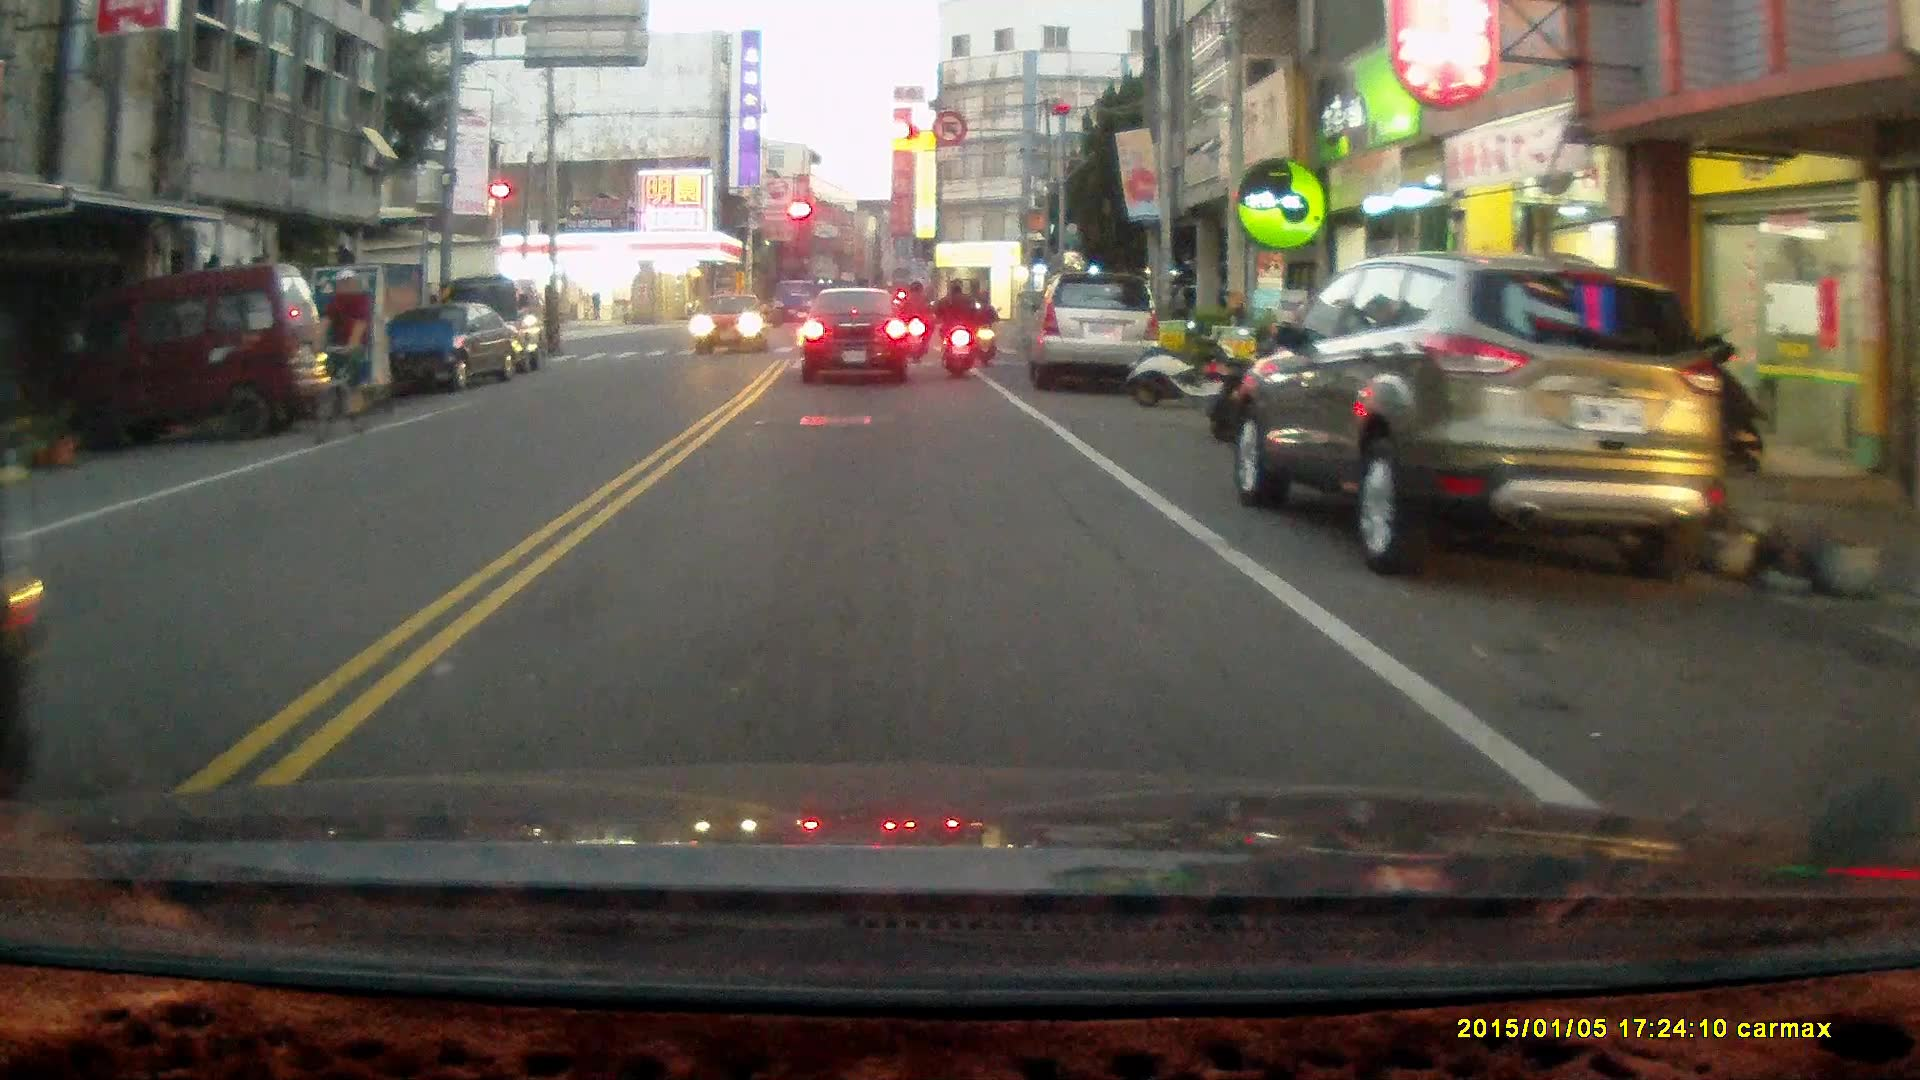rider: (305, 267, 373, 443), (930, 271, 979, 378), (895, 273, 931, 360), (968, 286, 998, 367)
vehicle: (1231, 253, 1716, 583), (61, 261, 334, 442), (1025, 269, 1164, 393), (801, 281, 913, 385), (391, 297, 512, 391), (695, 290, 770, 357)
